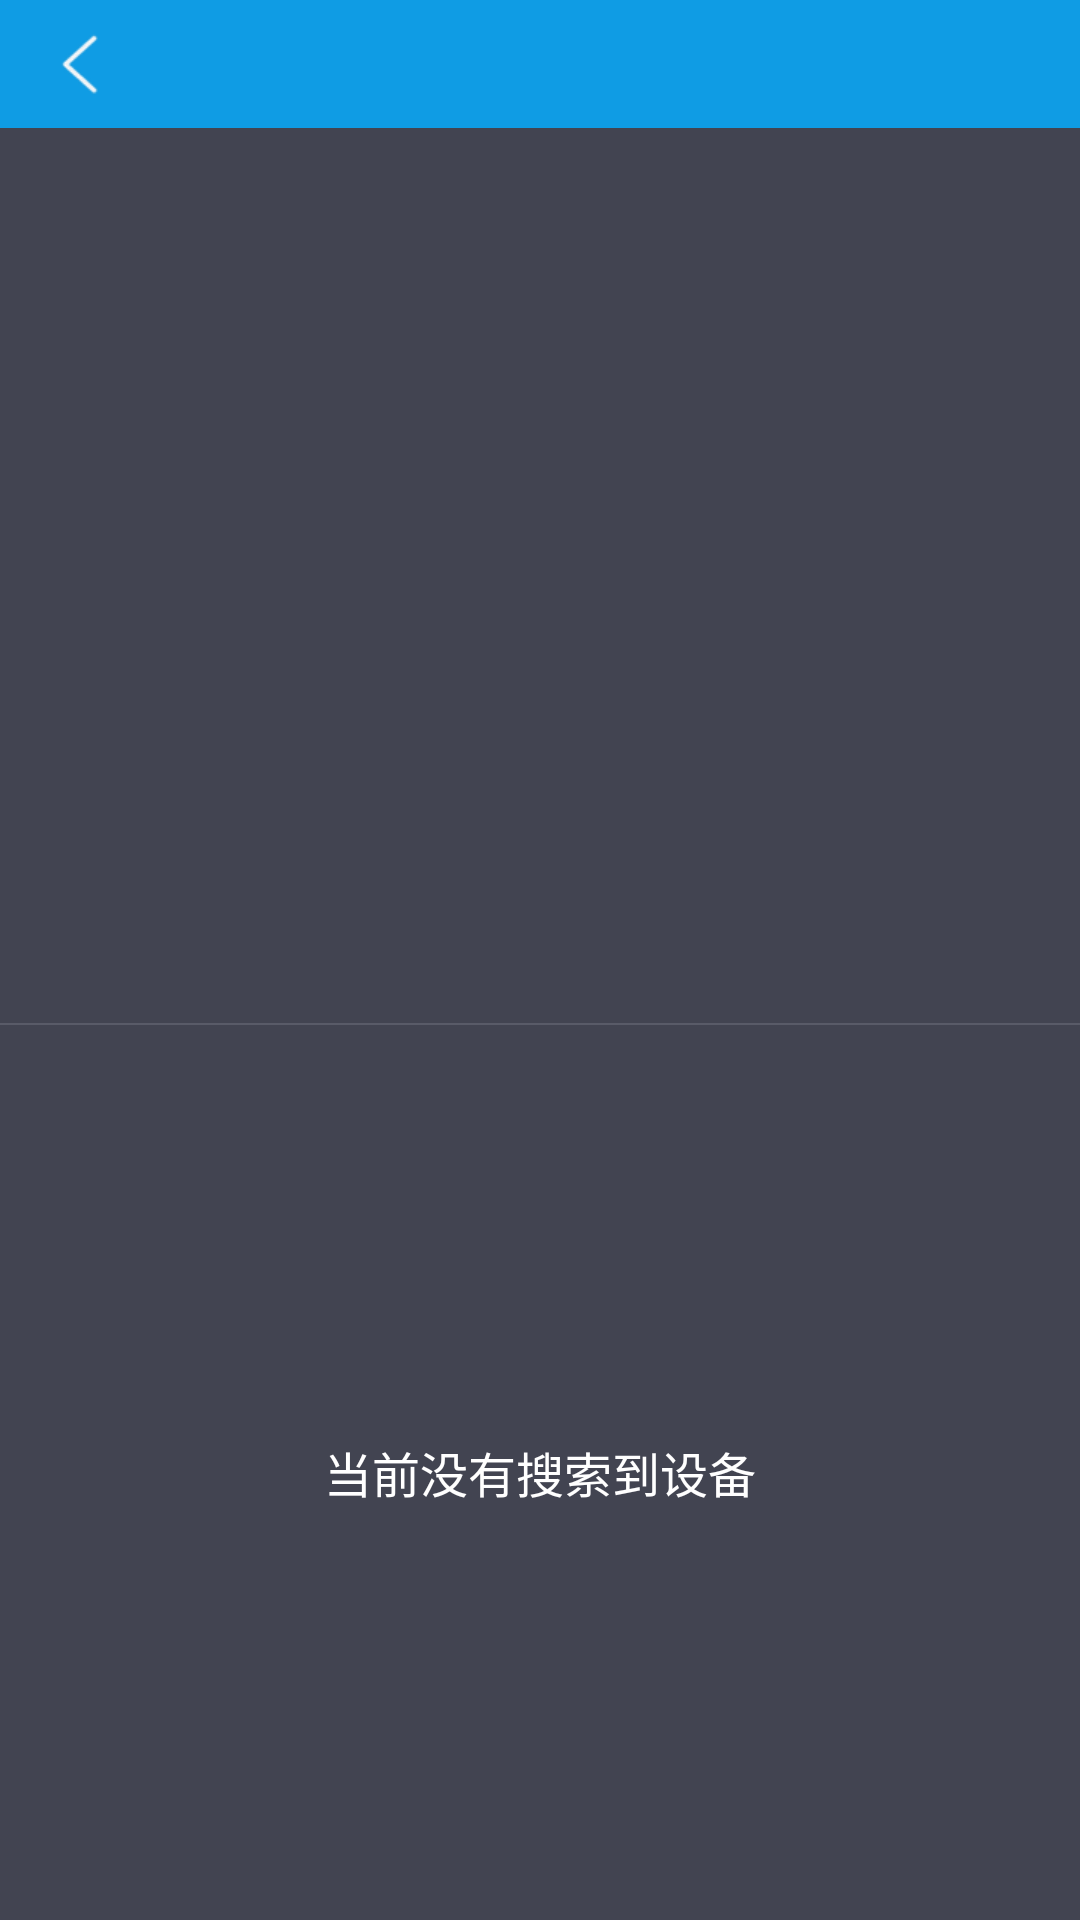

Screen size 1080px x 1920px. Icon name, then its box in pixels as [left=x1, top=y1, right=x2, bottom=y2]:
back: [left=62, top=35, right=98, bottom=94]
